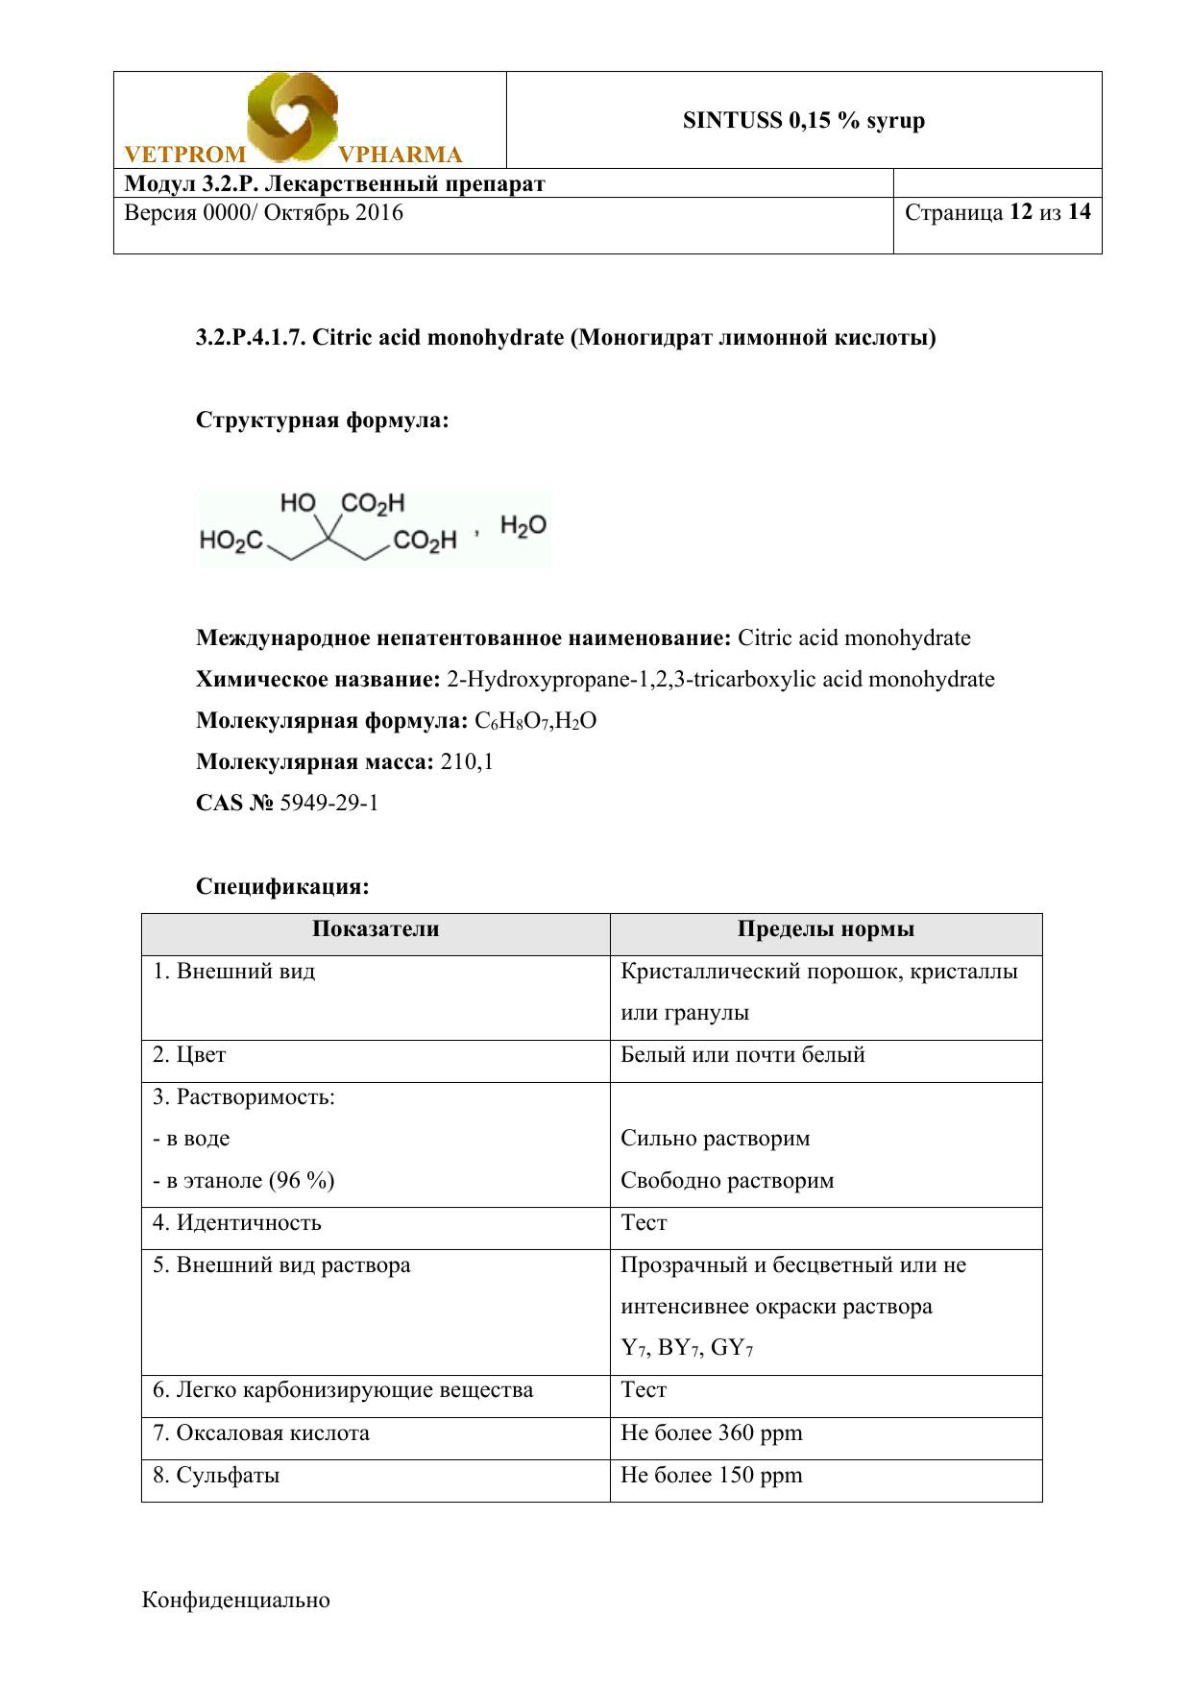full_lined: (141, 912, 1045, 1504)
merged_cells: (112, 70, 1104, 255)
